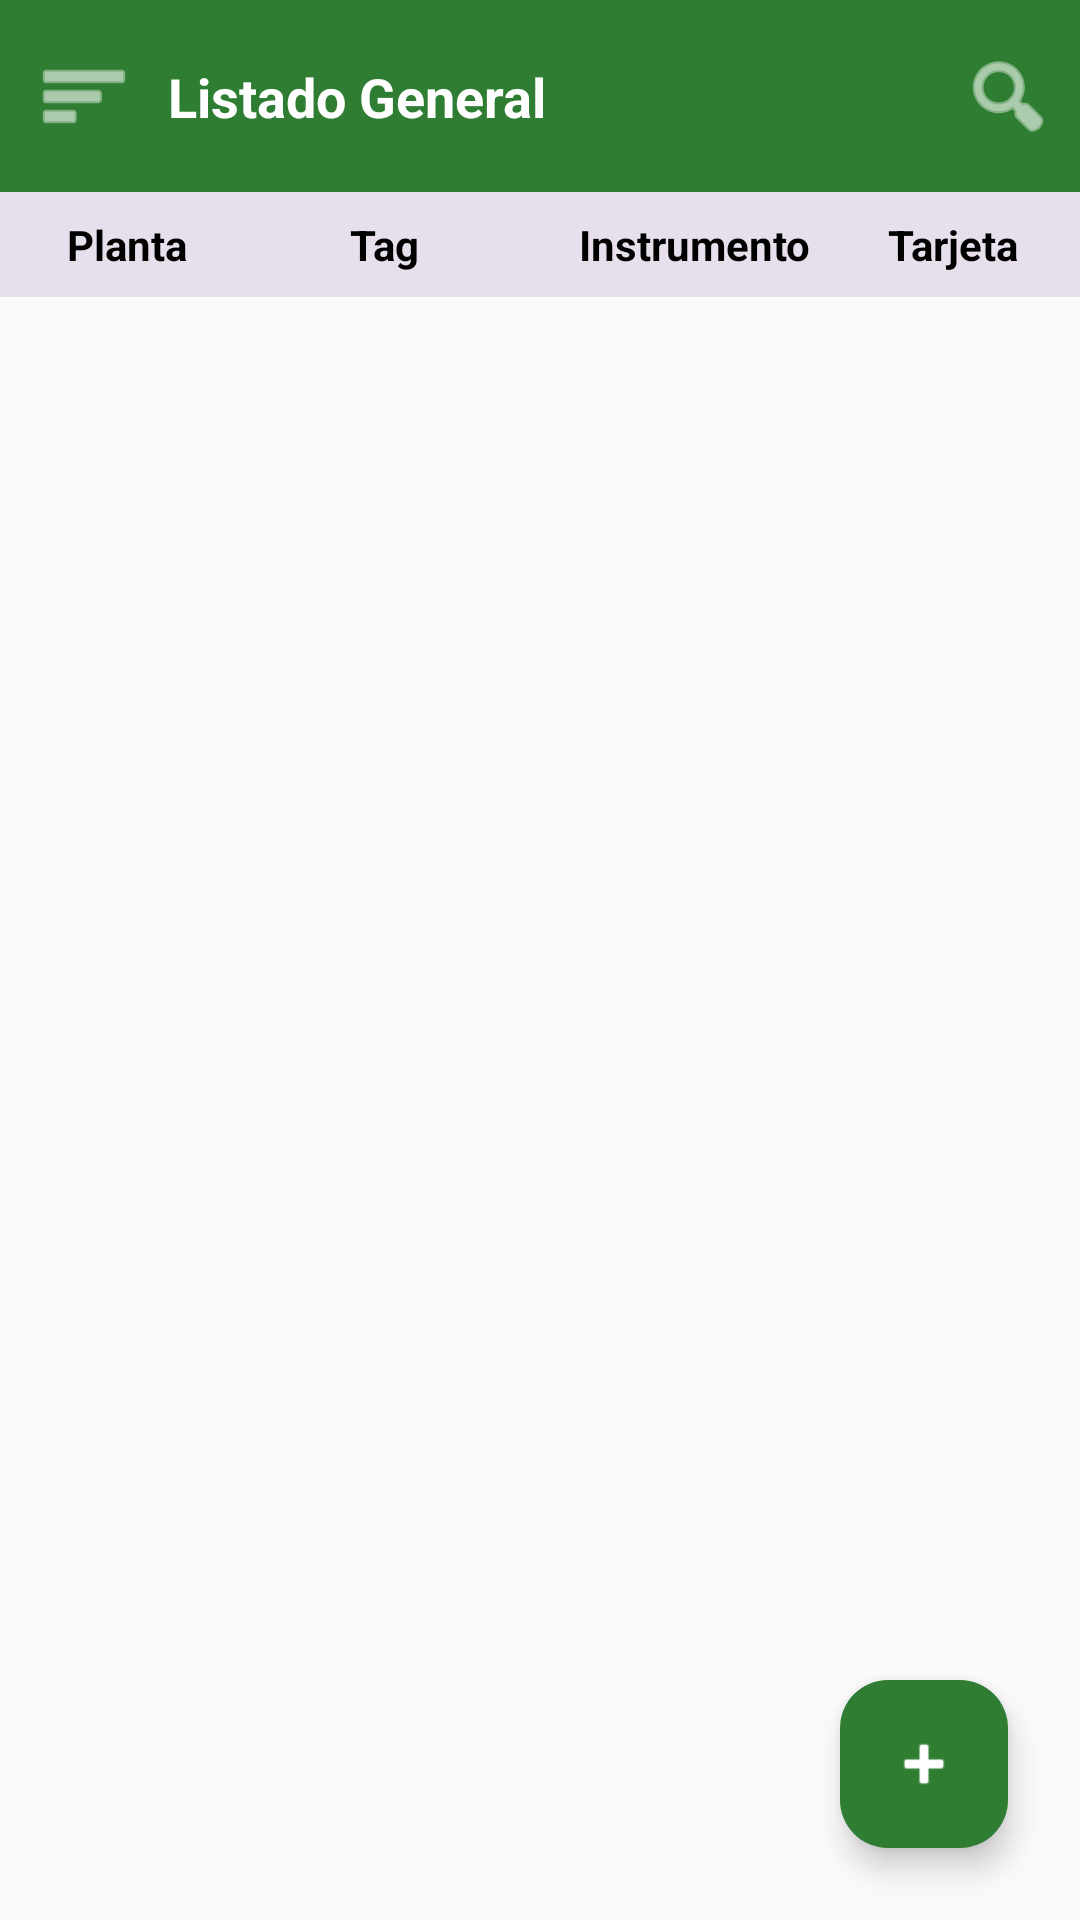

Where icons sit on this 1080*1920 app screen, as BBox(x1, y1, x2, y2):
add: BBox(840, 1680, 1008, 1848)
Buscar: BBox(973, 61, 1043, 132)
